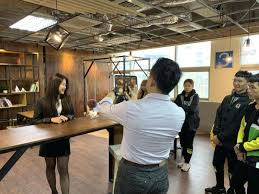people: (100, 58, 187, 194), (210, 72, 248, 194), (37, 74, 75, 194), (237, 75, 259, 194), (176, 79, 199, 172)
